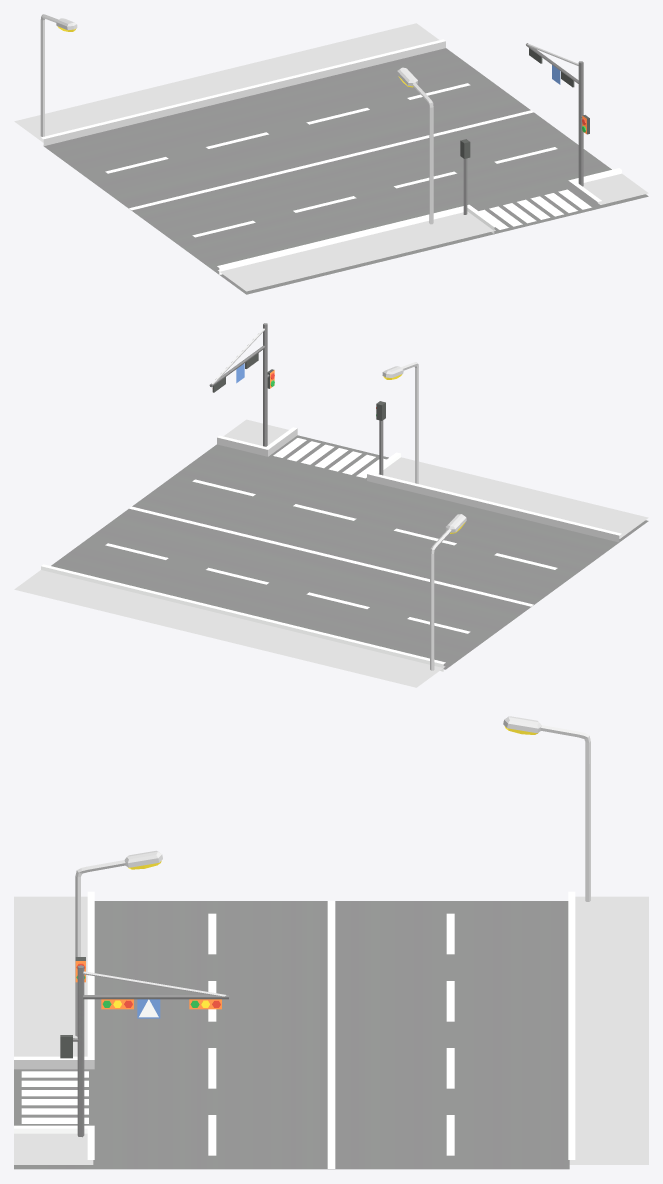
File: road_TT.glb
3 renders of one model, top to bottom at view 1: azimuth 30°, elevation 25°; view 2: azimuth 150°, elevation 25°; view 3: azimuth 270°, elevation 25°, orthographic. The views are drawn at different scales.
Visible parts, largest first — view 1: road_tile_2x2_3 reversal(Clone); view 2: road_tile_2x2_3 reversal(Clone); view 3: road_tile_2x2_3 reversal(Clone).
Part boxes in pixels (x1,y1,x2,y2): road_tile_2x2_3 reversal(Clone): (14,14,648,294); road_tile_2x2_3 reversal(Clone): (14,323,648,687); road_tile_2x2_3 reversal(Clone): (14,716,648,1169).
Size of the model in its own units: 16 by 5.25 by 16.
Materials: 1 (1 with a texture image).
